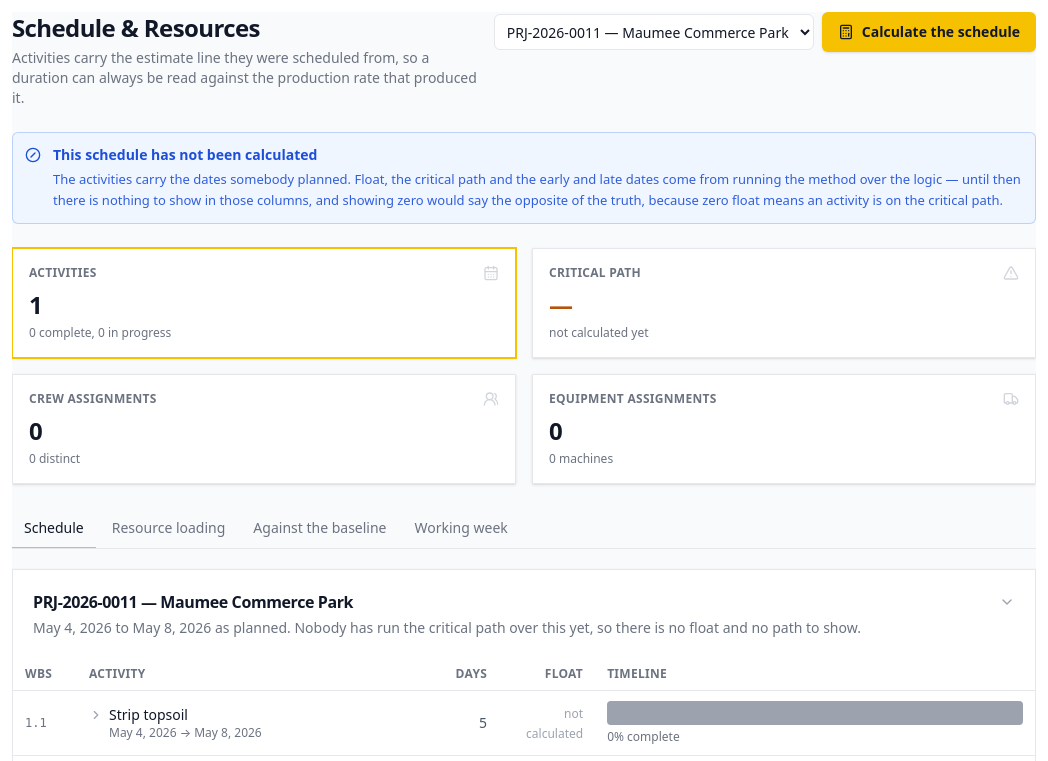
Test: calculating › shows what the engine refused rather than pretending it worked
expect the button "Strip topsoil" is shown: met, box [89, 705, 188, 725]
Click the button "Calculate the schedule".
click(929, 32)  # box [822, 12, 1036, 52]
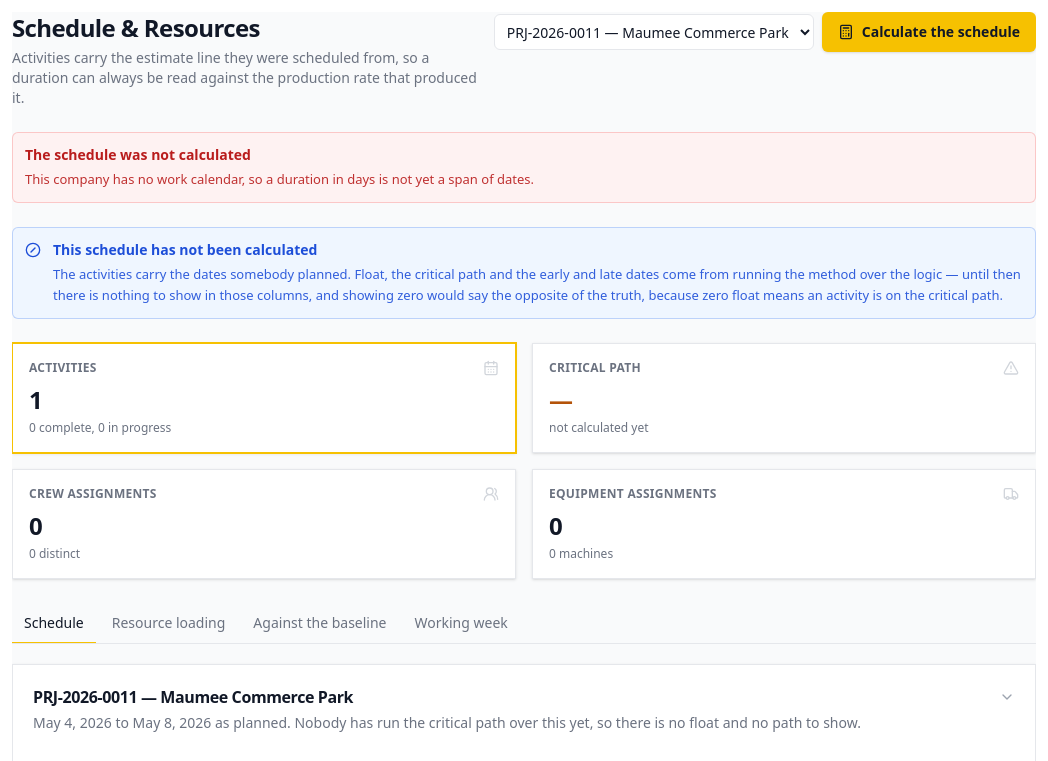
expect the text "no work calendar" is shown: met, box [25, 170, 534, 188]
